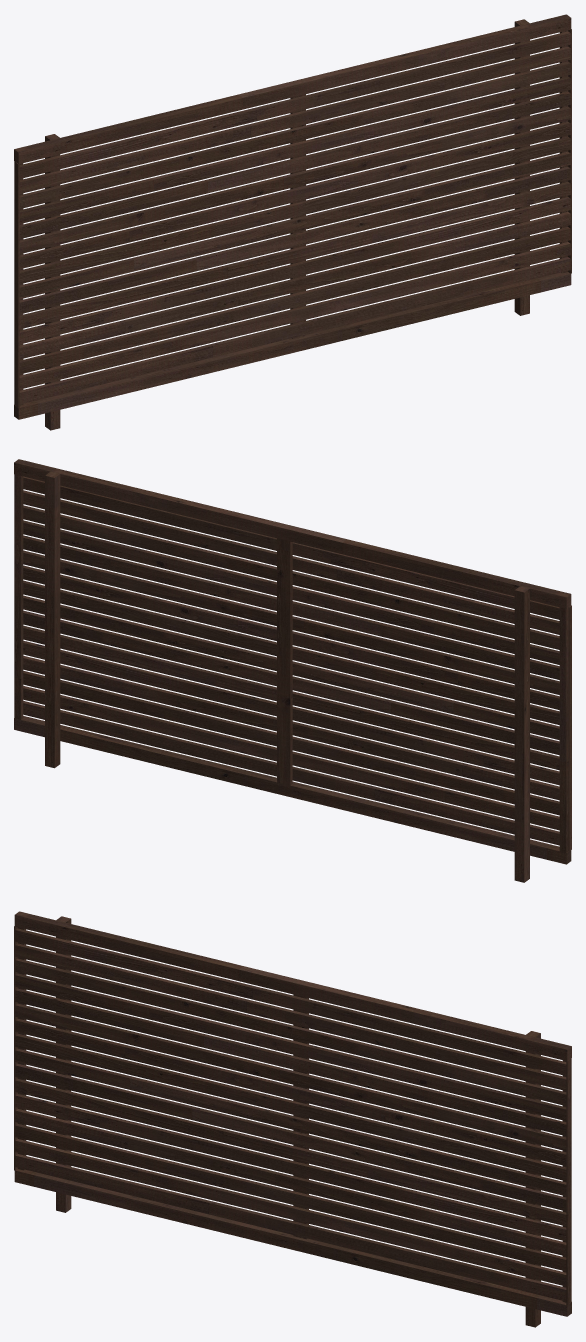
Rendered from dsf_yoko40_h1000_darkpine.fbx.
The picture shows the model from 3 angles, top to bottom: view 1: azimuth 30°, elevation 25°; view 2: azimuth 150°, elevation 25°; view 3: azimuth 330°, elevation 25°; orthographic projection.
Visible parts, largest first — view 1: dsf_yoko40_h1000_darkpine; view 2: dsf_yoko40_h1000_darkpine; view 3: dsf_yoko40_h1000_darkpine.
Boxes of the visible parts, left/top/right/bottom form: dsf_yoko40_h1000_darkpine: left=14, top=14, right=571, bottom=430; dsf_yoko40_h1000_darkpine: left=14, top=459, right=571, bottom=882; dsf_yoko40_h1000_darkpine: left=14, top=911, right=571, bottom=1327.
Bounding box in the file's own units: 200 × 100 × 6.55.
Materials: 1 (1 with a texture image).
